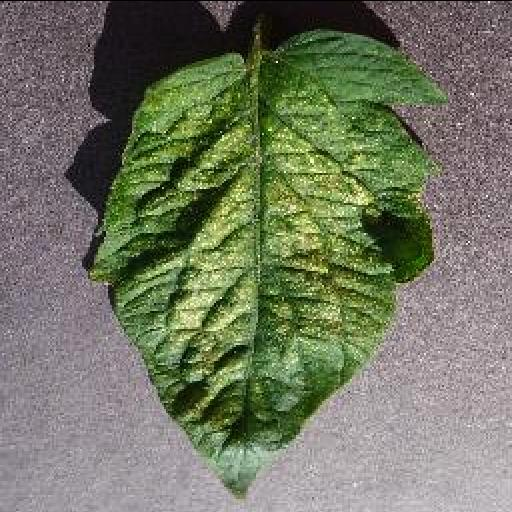disease_tomato: (82, 32, 442, 502)
